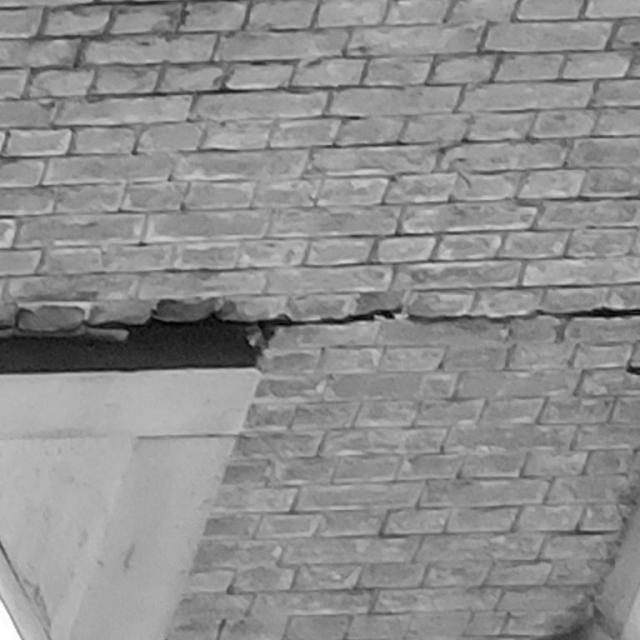crack: (81, 308, 640, 351)
